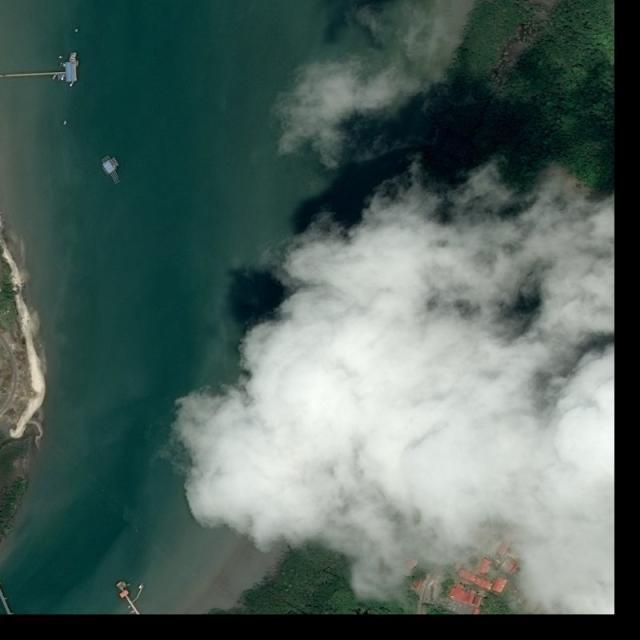ship: (138, 582, 145, 591), (70, 52, 77, 55), (58, 56, 63, 60), (74, 29, 78, 34), (69, 60, 78, 62), (70, 57, 76, 60), (70, 55, 77, 57), (64, 121, 67, 125), (70, 54, 74, 56)
